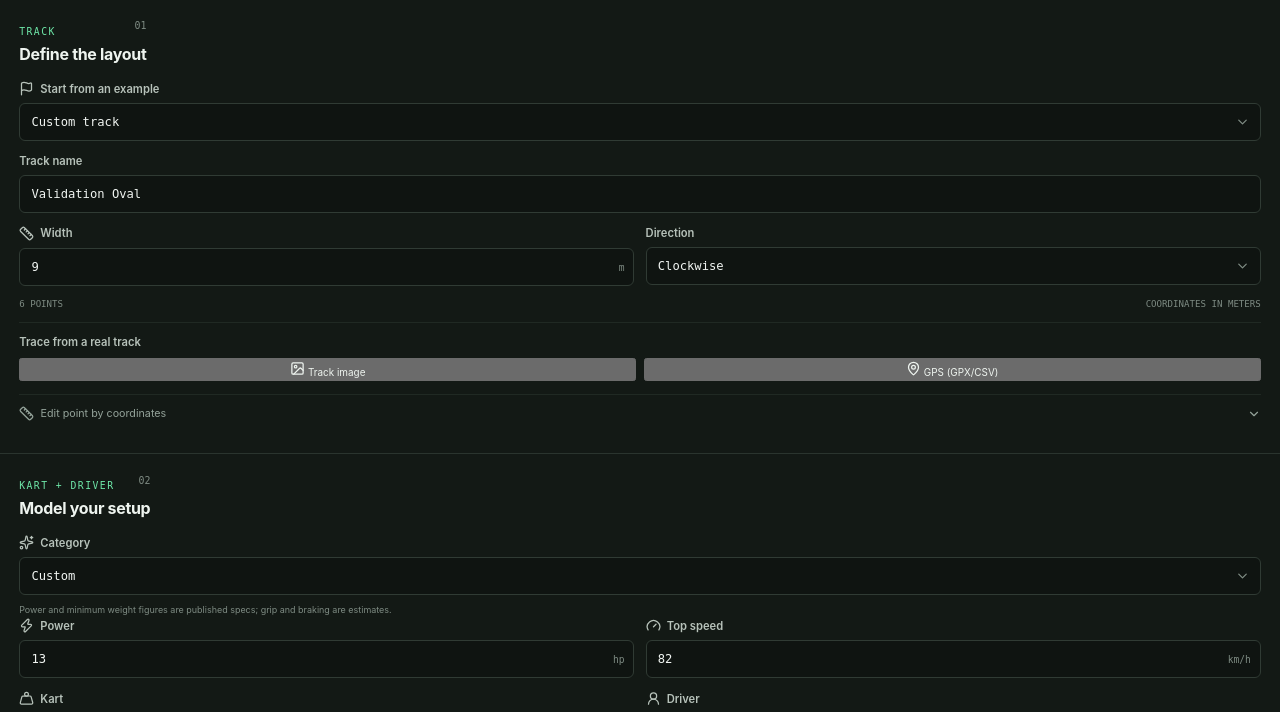
Test: removing a point from the panel that owns the index › clamps the selection onto the point that took its place
The image size is (1280, 712).
Click the heading "Edit point by coordinates": [103, 414] box [19, 406, 1261, 421]
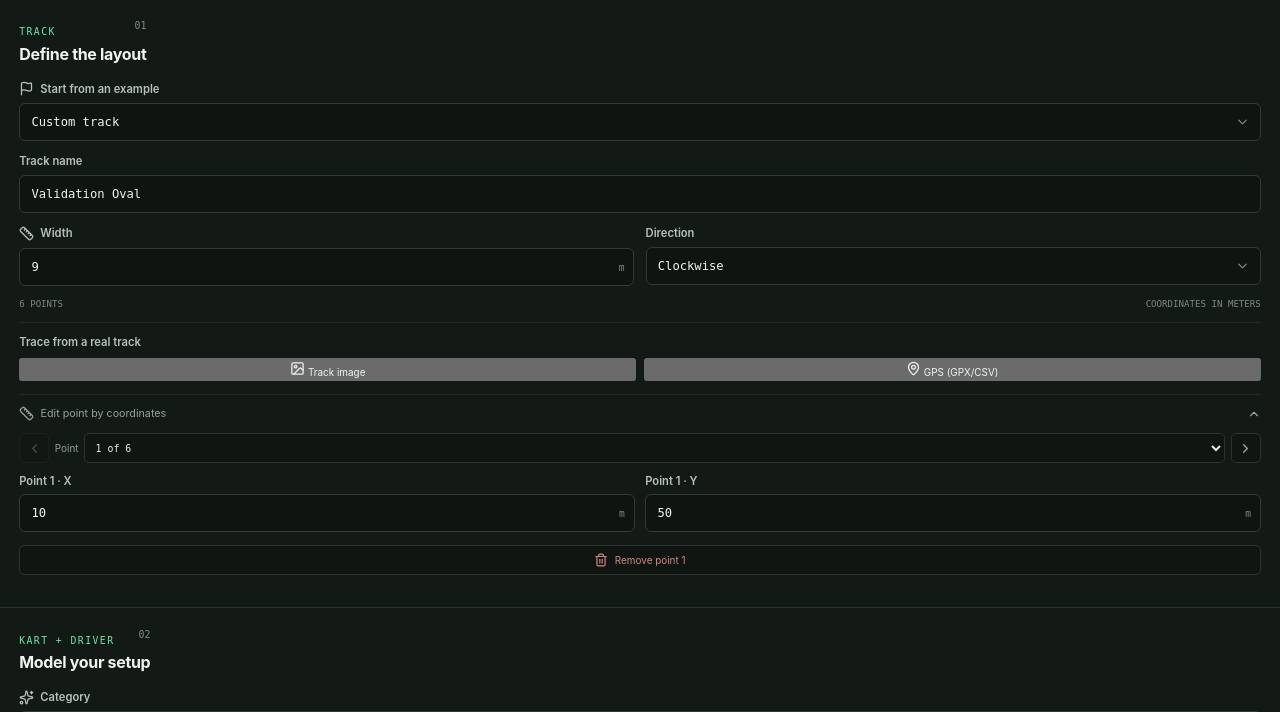
Select "6 of 6" in the dropdown with id "control-point": [655, 448] box [84, 433, 1225, 463]
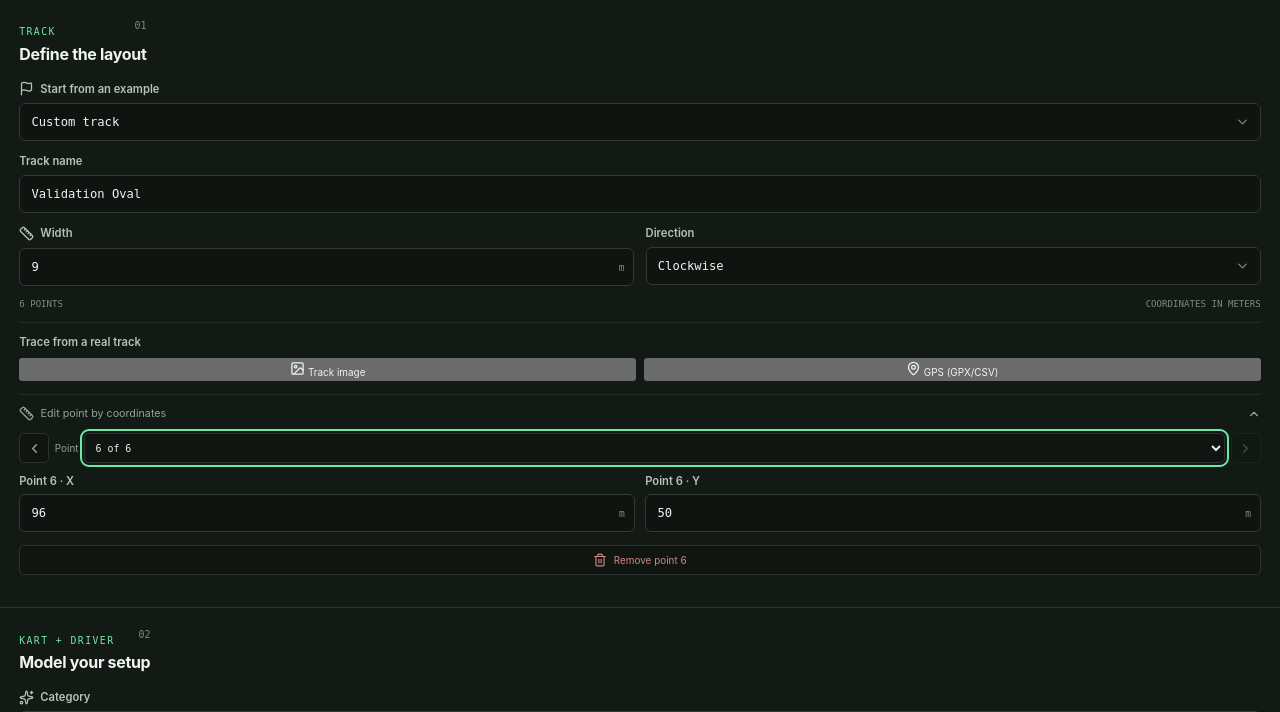
Click the button "Remove point 6": [640, 560] box [19, 545, 1261, 575]
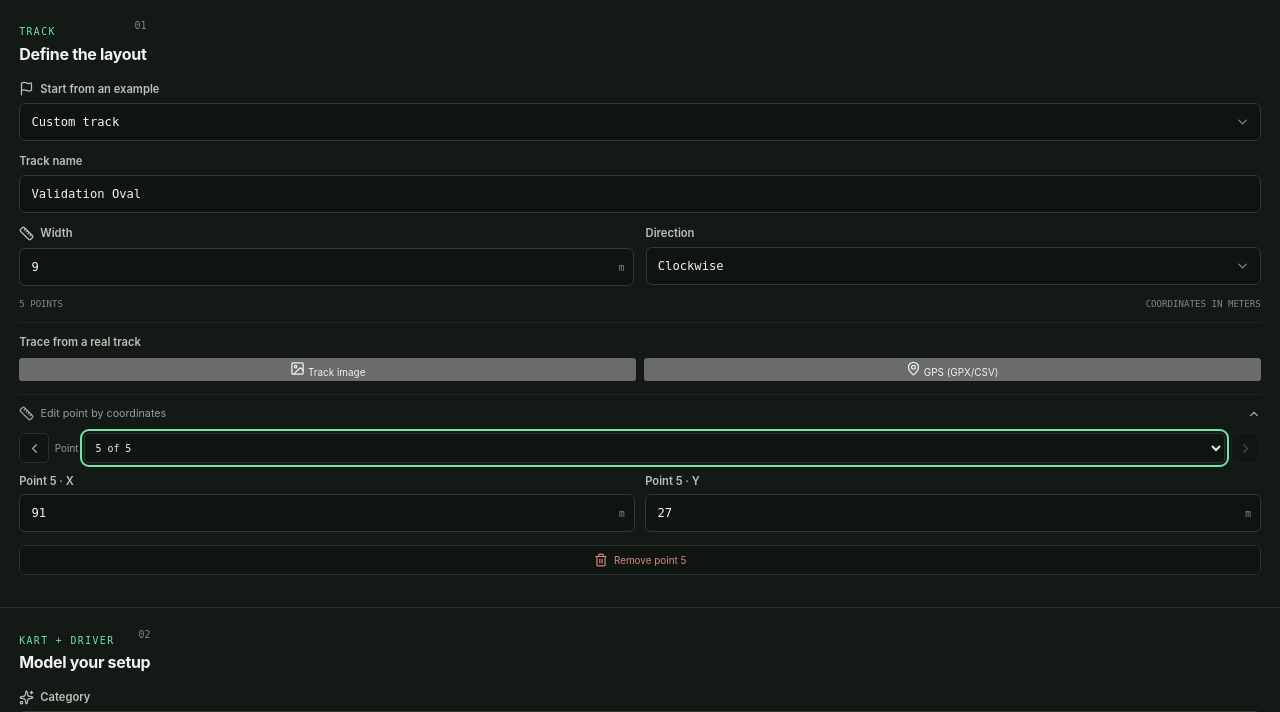
Result: the number field labelled "Point 5 · X m" holds "91" at [19, 494, 635, 532]
